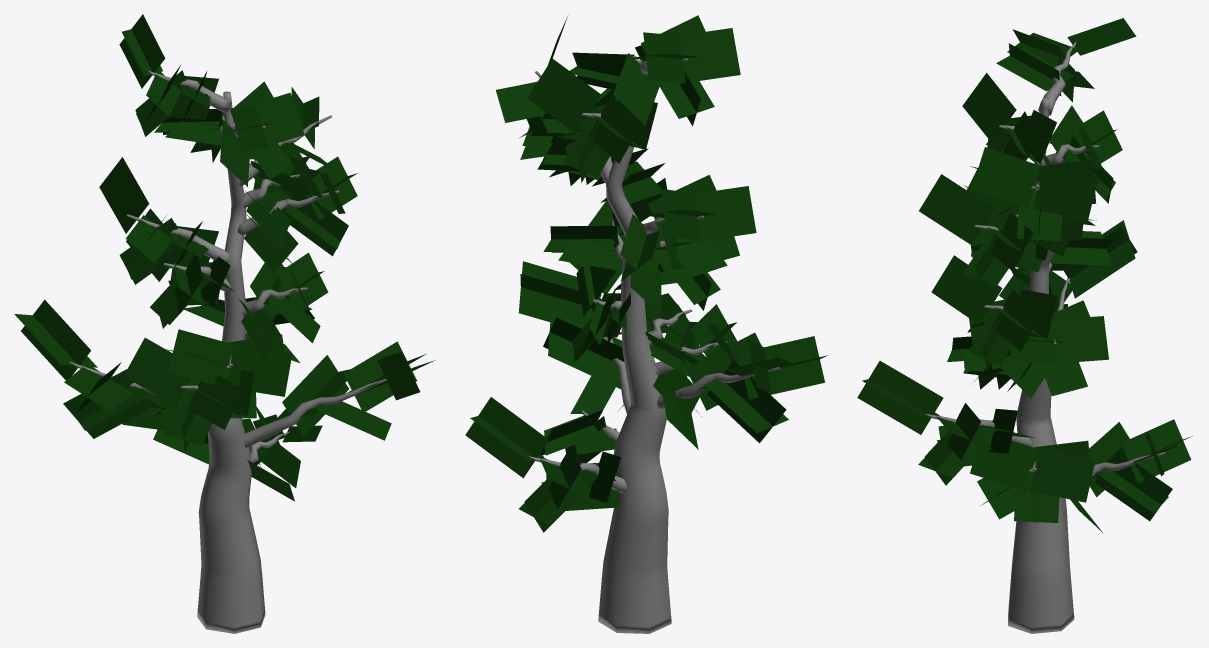
File: Tree A.obj
The picture shows the model from 3 angles, left to right: view 1: azimuth 30°, elevation 25°; view 2: azimuth 150°, elevation 25°; view 3: azimuth 270°, elevation 25°; orthographic projection. The views are drawn at different scales.
Parts seen in each view (by area): view 1: TreeAA LeavesAA, TrunkAA TreeAA; view 2: TreeAA LeavesAA, TrunkAA TreeAA; view 3: TreeAA LeavesAA, TrunkAA TreeAA.
Part boxes in pixels (x1=…): TreeAA LeavesAA: x1=14, y1=14, x2=434, y2=501; TrunkAA TreeAA: x1=69, y1=71, x2=386, y2=633; TreeAA LeavesAA: x1=465, y1=15, x2=827, y2=532; TrunkAA TreeAA: x1=529, y1=56, x2=780, y2=633; TreeAA LeavesAA: x1=857, y1=18, x2=1192, y2=533; TrunkAA TreeAA: x1=920, y1=42, x2=1165, y2=633.
Bounding box in the file's own units: 2.53 × 4.35 × 2.29.
